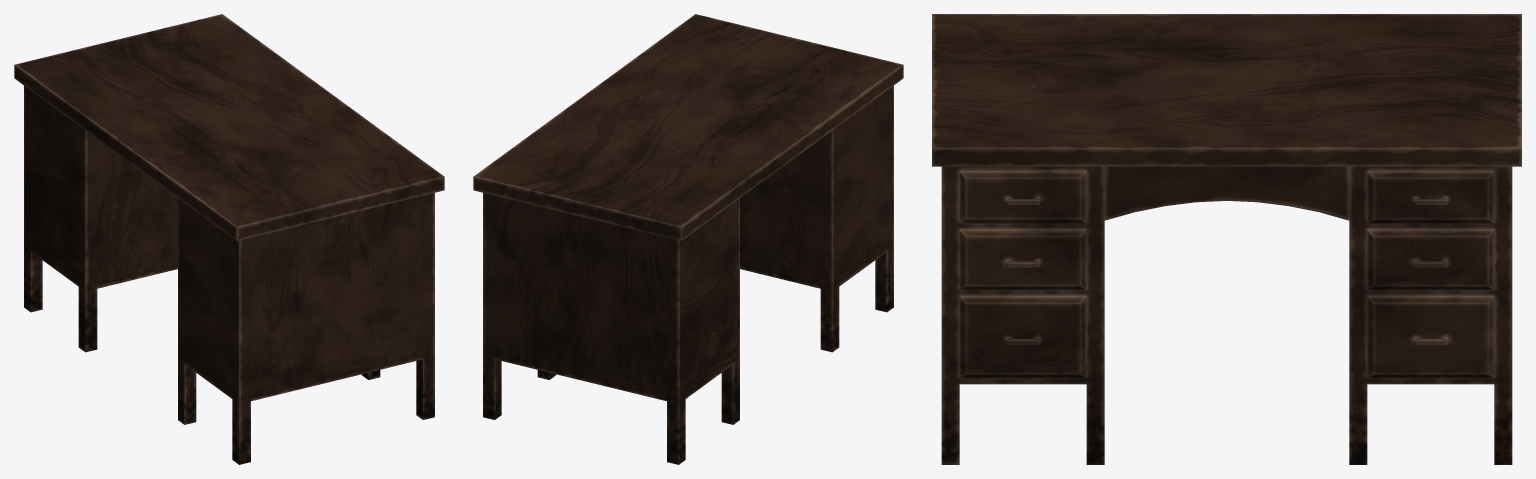
Rendered from vintage_wooden_workdesk.glb.
3 renders of one model, left to right at view 1: azimuth 30°, elevation 25°; view 2: azimuth 150°, elevation 25°; view 3: azimuth 270°, elevation 25°, orthographic. The views are drawn at different scales.
Visible parts, largest first — view 1: Workdesk_baked; view 2: Workdesk_baked; view 3: Workdesk_baked.
Part boxes in pixels (bbox=[...]): Workdesk_baked: bbox=[14, 14, 444, 464]; Workdesk_baked: bbox=[473, 14, 903, 464]; Workdesk_baked: bbox=[932, 14, 1521, 464].
Size of the model in its own units: 1.78 by 1.94 by 3.24.
1 material, 1 textured.
